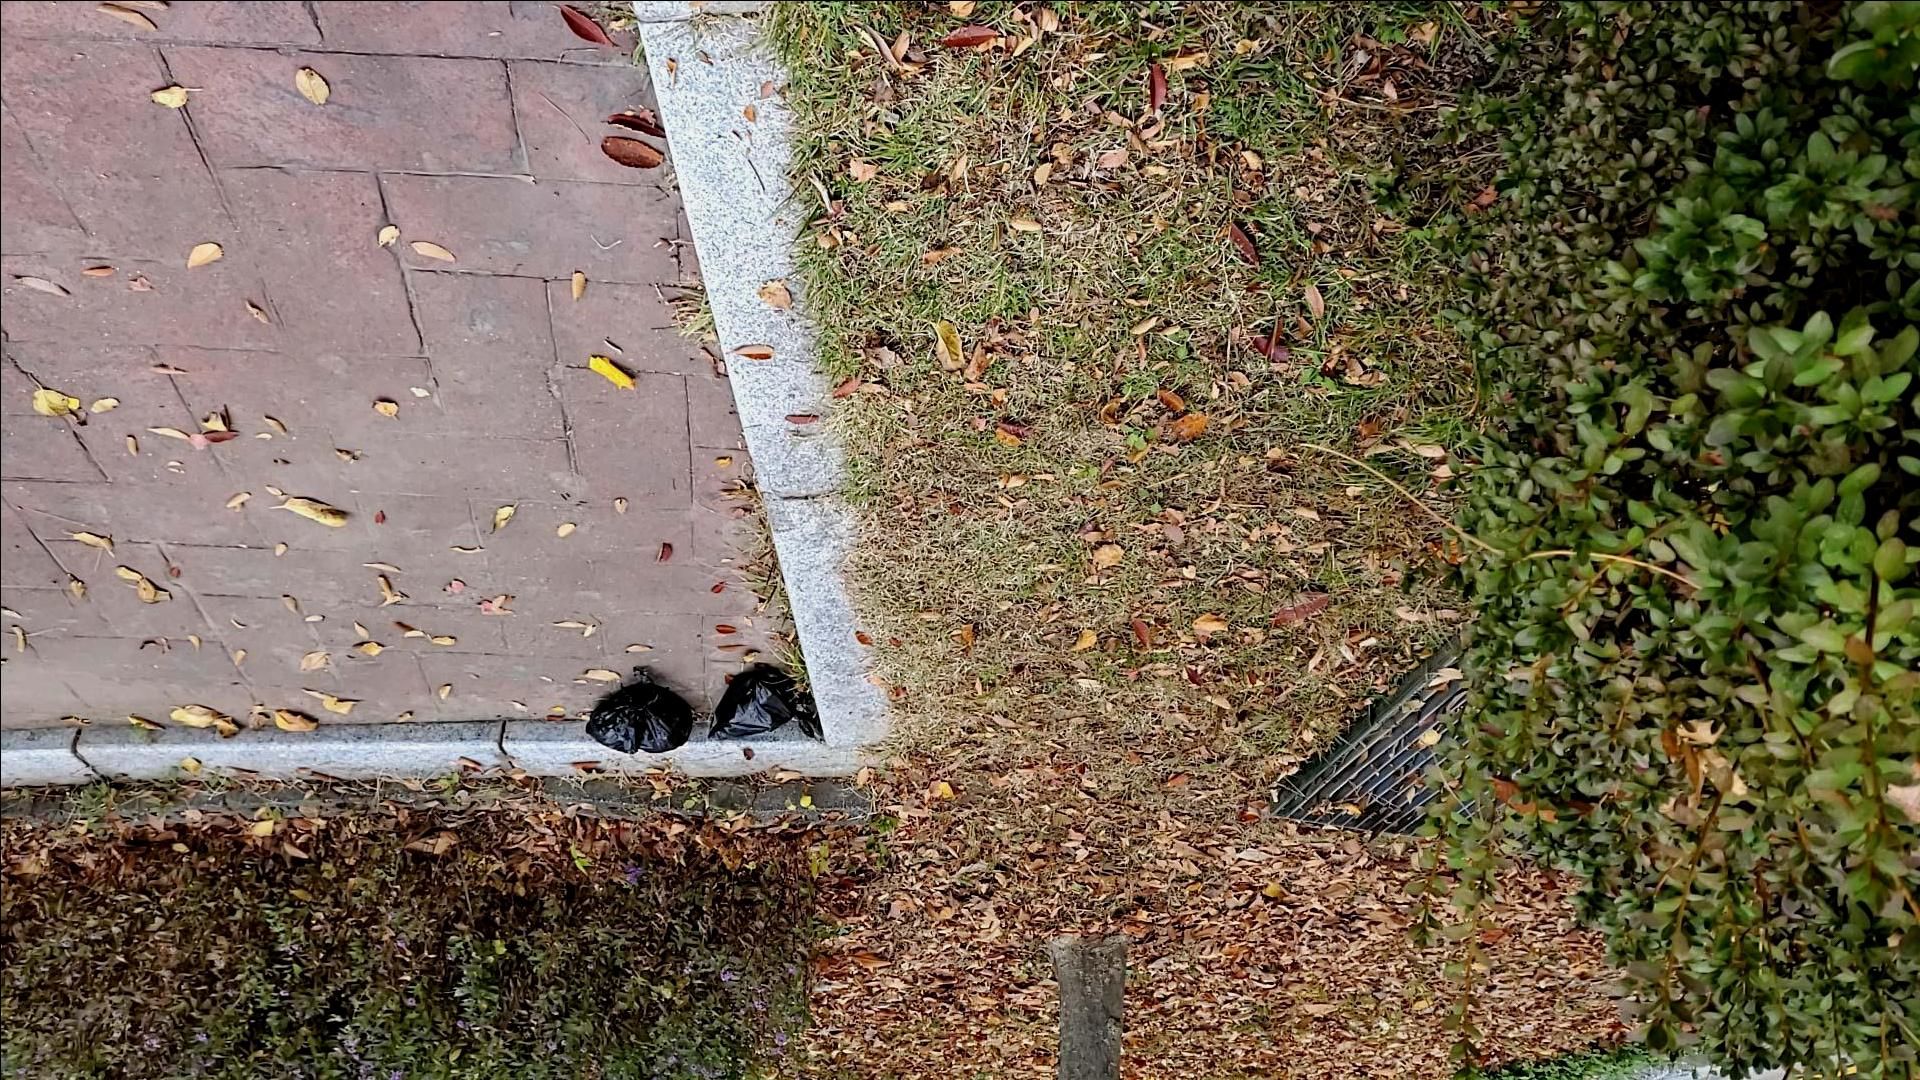black_bag: (582, 661, 696, 760), (704, 663, 825, 746)
